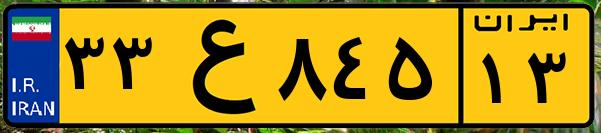1: (475, 38, 525, 113)
3: (57, 26, 110, 100), (525, 38, 570, 115), (110, 28, 158, 98)
4: (330, 28, 385, 110)
5: (385, 28, 445, 110)
8: (270, 28, 330, 110)
ع: (158, 12, 270, 120)
